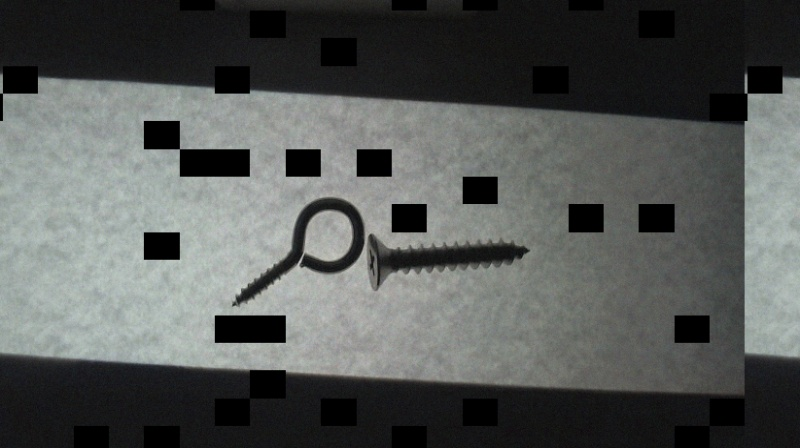O001: (230, 198, 366, 310)
S001: (365, 230, 532, 292)
